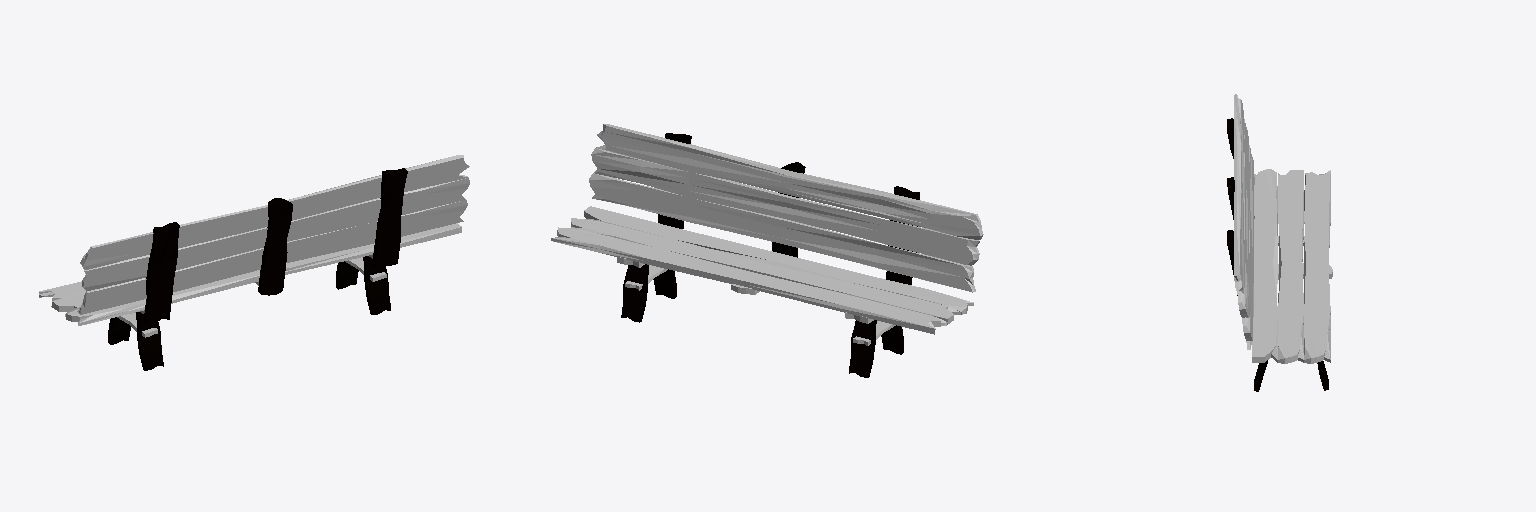
Rendered from Bench.obj.
The picture shows the model from 3 angles: view 1: azimuth 30°, elevation 25°; view 2: azimuth 150°, elevation 25°; view 3: azimuth 270°, elevation 25°; orthographic projection.
Visible parts, largest first — view 1: Bench_Plane.012; view 2: Bench_Plane.012; view 3: Bench_Plane.012.
Part boxes in pixels (x1,y1,x2,y2): Bench_Plane.012: (39,155,469,370); Bench_Plane.012: (551,124,983,377); Bench_Plane.012: (1227,94,1332,391).
Size of the model in its own units: 10.2 by 3.84 by 2.42.